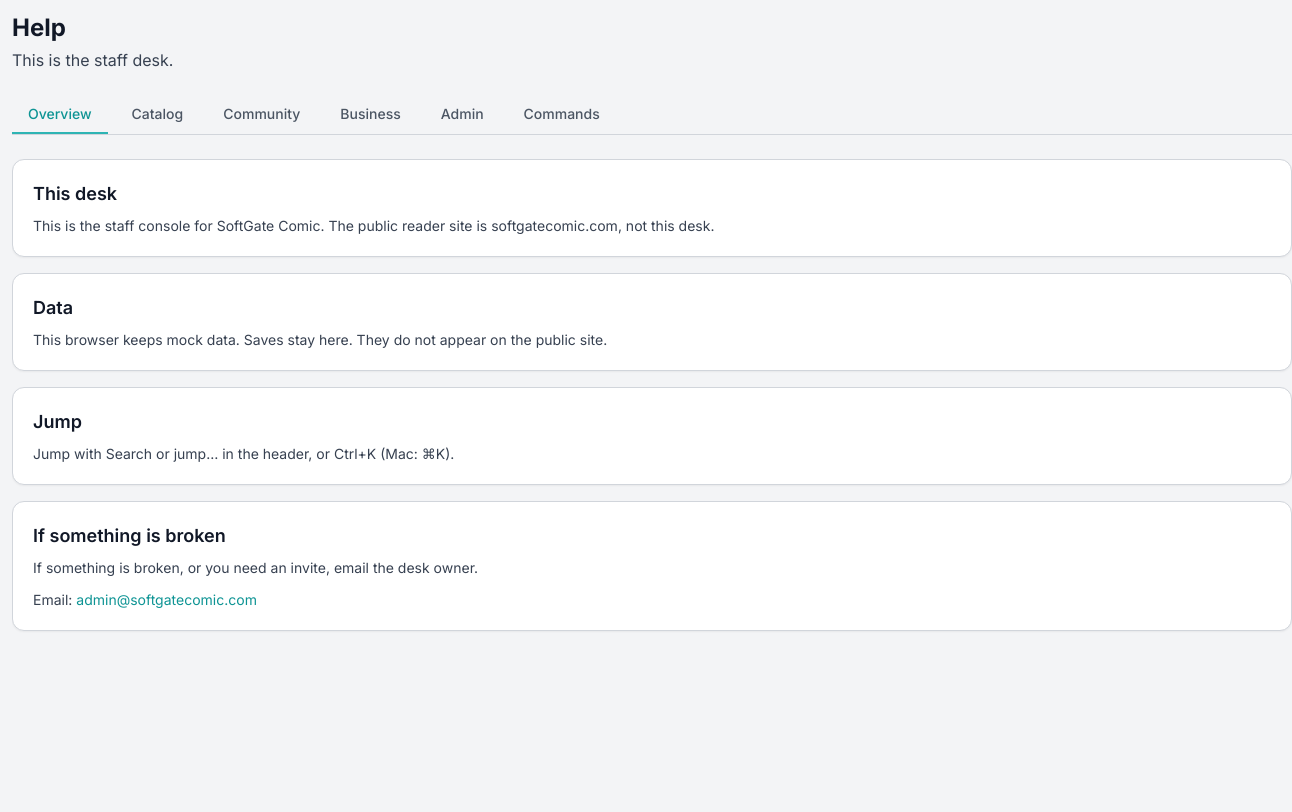
Test case: HelpPage › shows business mock copy
Click the tab "Business".
click(370, 115)  # box [324,96,417,134]
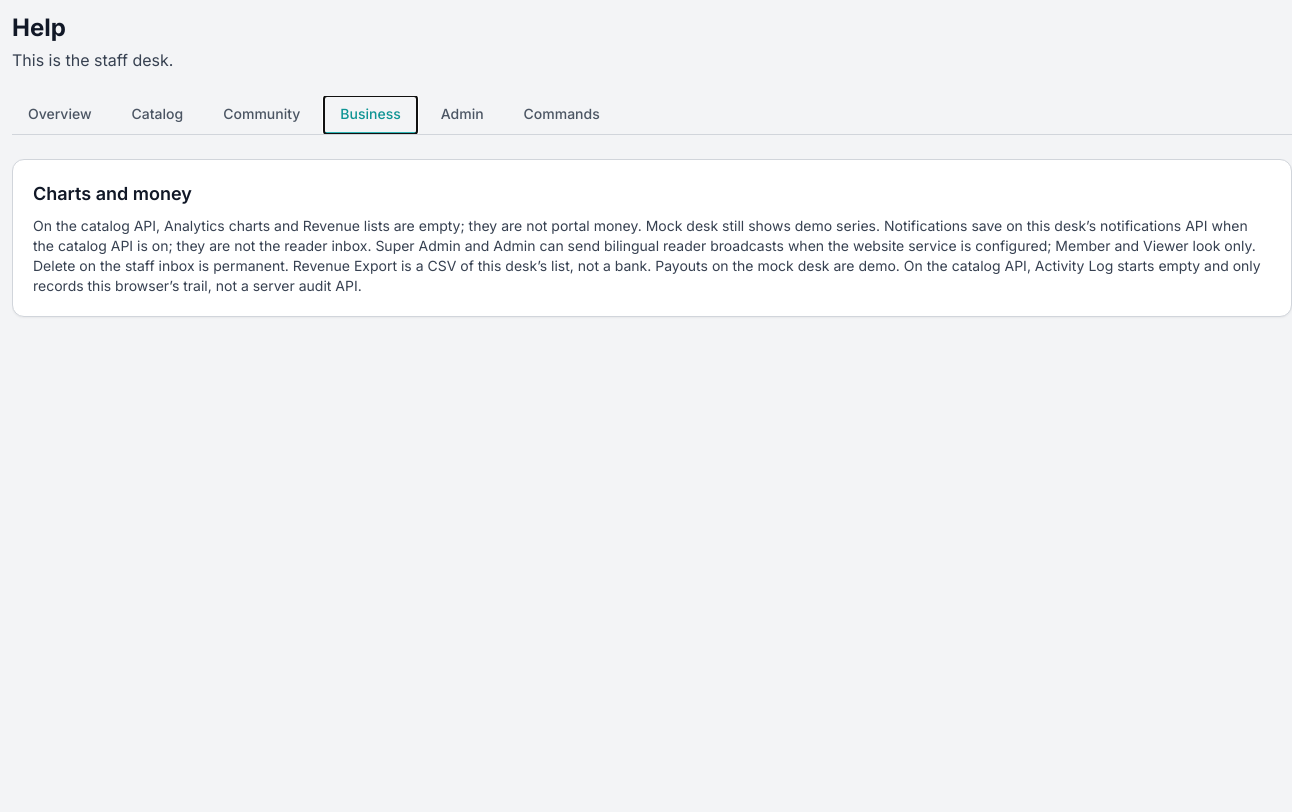
Now the text "On the catalog API, Analytics charts and Revenue lists are empty; they are not portal money. Mock desk still shows demo " is shown, box [33,217,1261,294]
